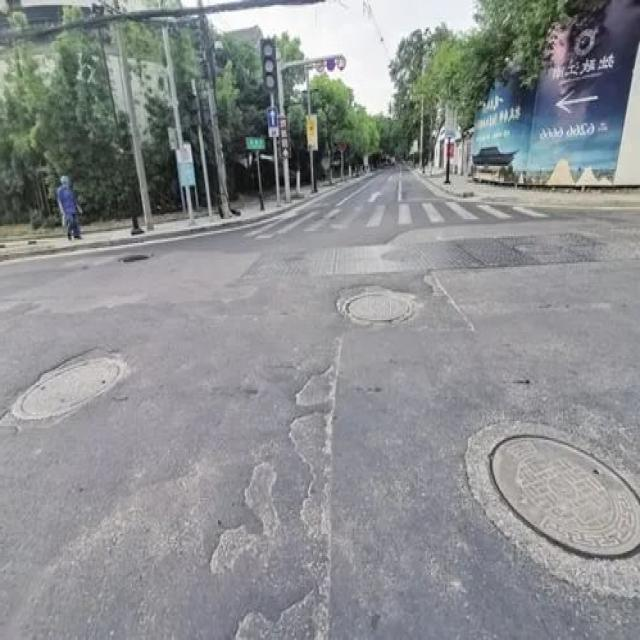pothole: (234, 413, 339, 639), (4, 339, 130, 440), (213, 455, 281, 575), (334, 282, 419, 325), (294, 359, 342, 404)
